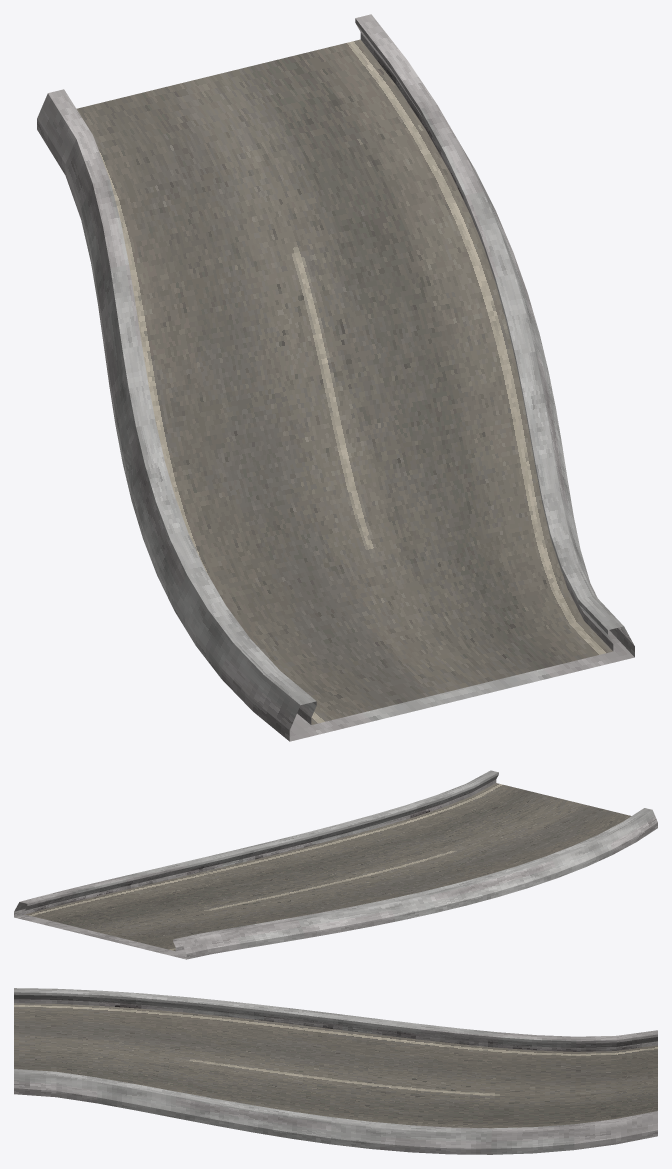
Rendered from chicane-right1x3.glb.
3 renders of one model, top to bottom at view 1: azimuth 30°, elevation 25°; view 2: azimuth 150°, elevation 25°; view 3: azimuth 270°, elevation 25°, orthographic. The views are drawn at different scales.
Visible parts, largest first — view 1: road-Chicane-Flat-BiSlopeUp-Up1-Right1-Size3; view 2: road-Chicane-Flat-BiSlopeUp-Up1-Right1-Size3; view 3: road-Chicane-Flat-BiSlopeUp-Up1-Right1-Size3.
Part boxes in pixels (x1,y1,x2,y2): road-Chicane-Flat-BiSlopeUp-Up1-Right1-Size3: [37, 14, 634, 741]; road-Chicane-Flat-BiSlopeUp-Up1-Right1-Size3: [14, 770, 657, 959]; road-Chicane-Flat-BiSlopeUp-Up1-Right1-Size3: [14, 988, 657, 1154].
Bounding box in the file's own units: 2 × 0.3476 × 3.
2 materials, 2 textured.
